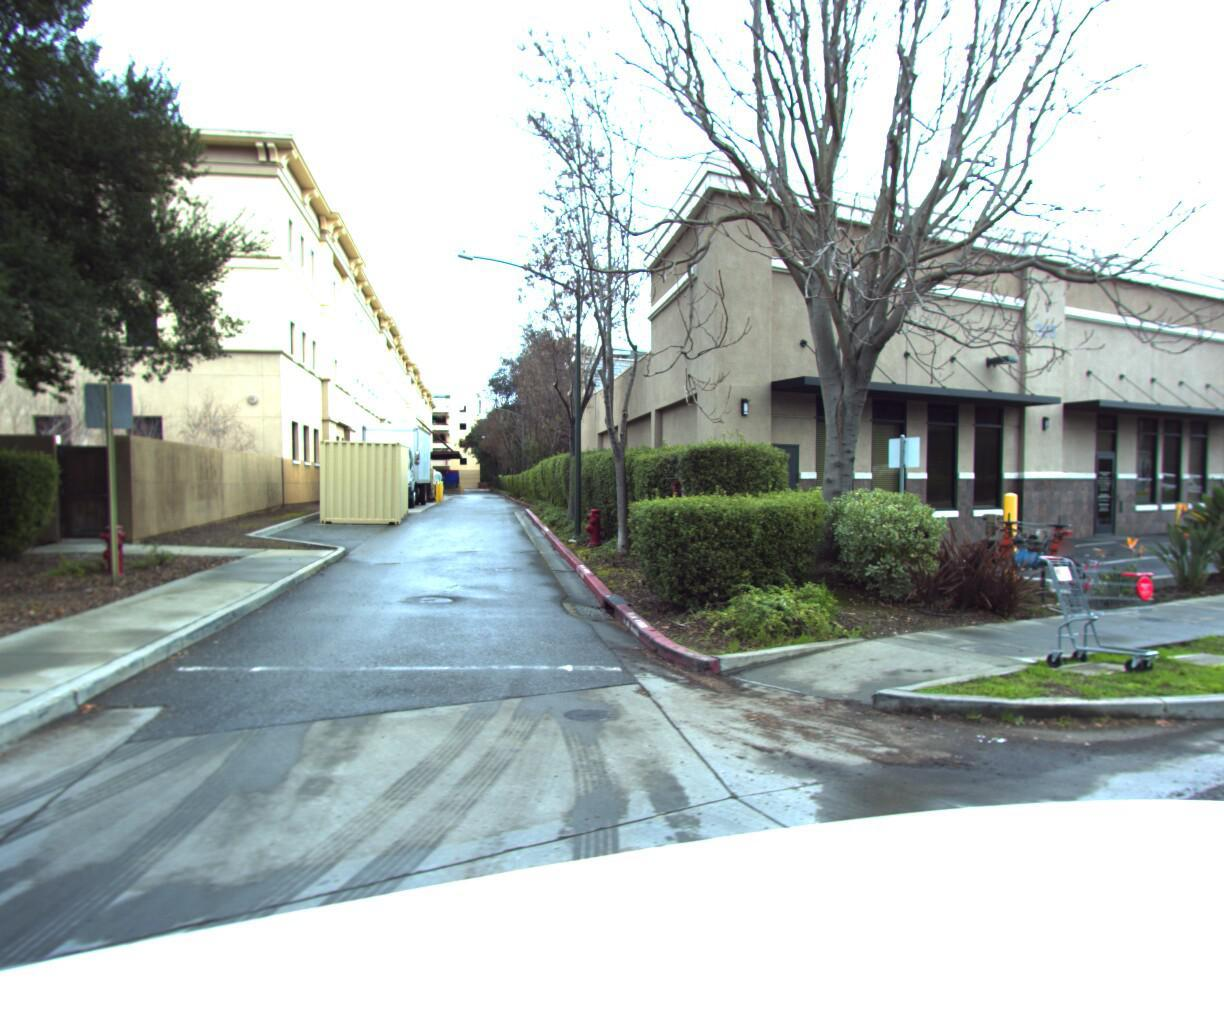truck: (349, 420, 436, 507)
